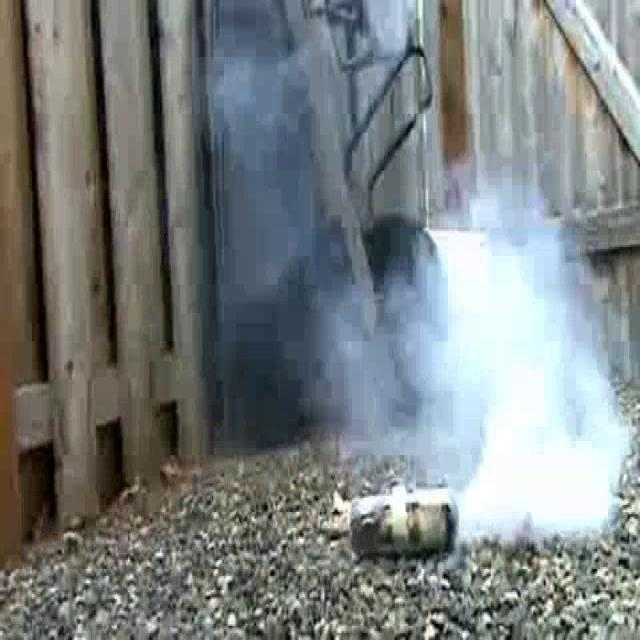Smoke: (195, 0, 472, 482), (414, 158, 640, 540)
